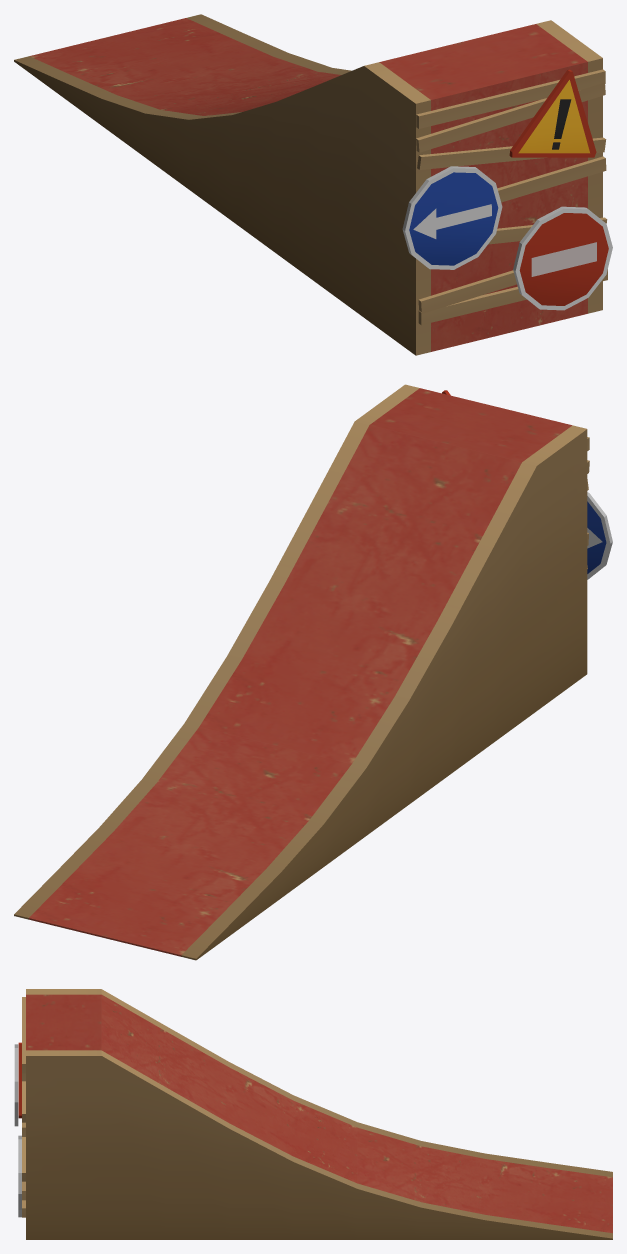
File: N_short.fbx
3 renders of one model, top to bottom at view 1: azimuth 30°, elevation 25°; view 2: azimuth 150°, elevation 25°; view 3: azimuth 270°, elevation 25°, orthographic. The views are drawn at different scales.
Visible parts, largest first — view 1: N_short; view 2: N_short; view 3: N_short.
Part boxes in pixels (<box>): N_short: <box>14,14,612,355</box>; N_short: <box>14,384,612,960</box>; N_short: <box>14,989,612,1239</box>.
Size of the model in its own units: 132 by 151 by 447.
